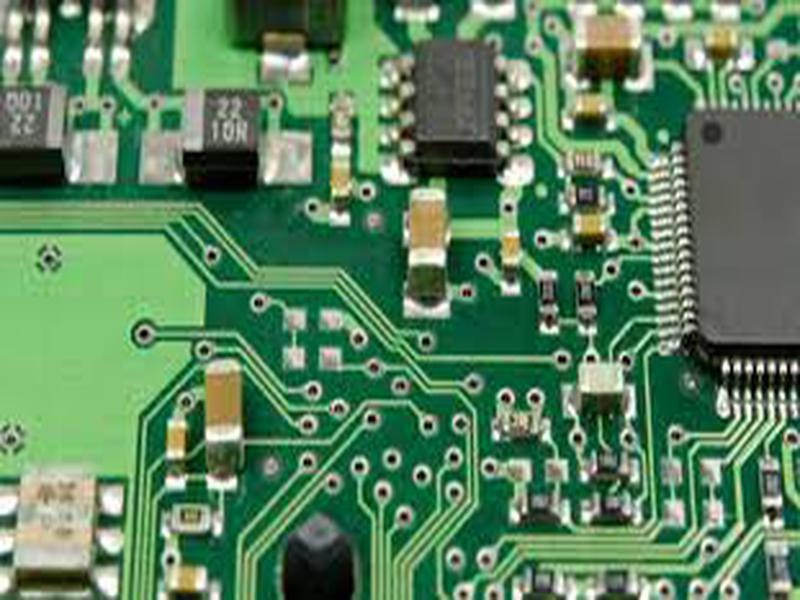SMD capacitor: (576, 14, 647, 85), (403, 190, 450, 287), (203, 361, 246, 450)
